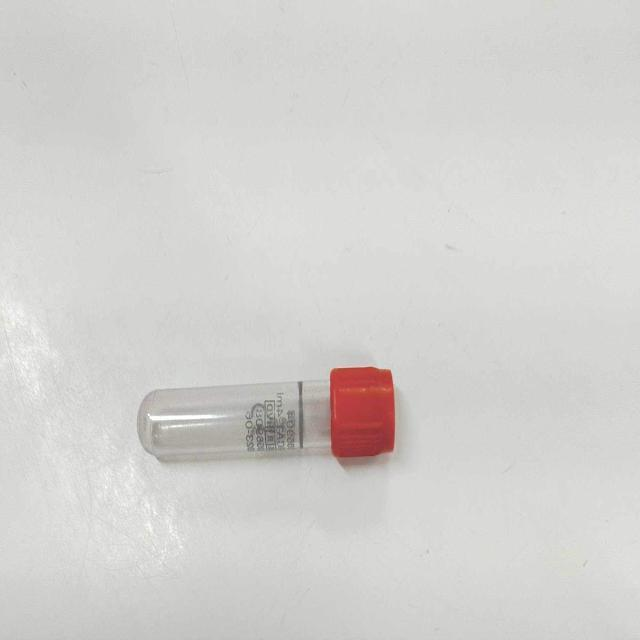Sharps: (137, 364, 397, 463)
